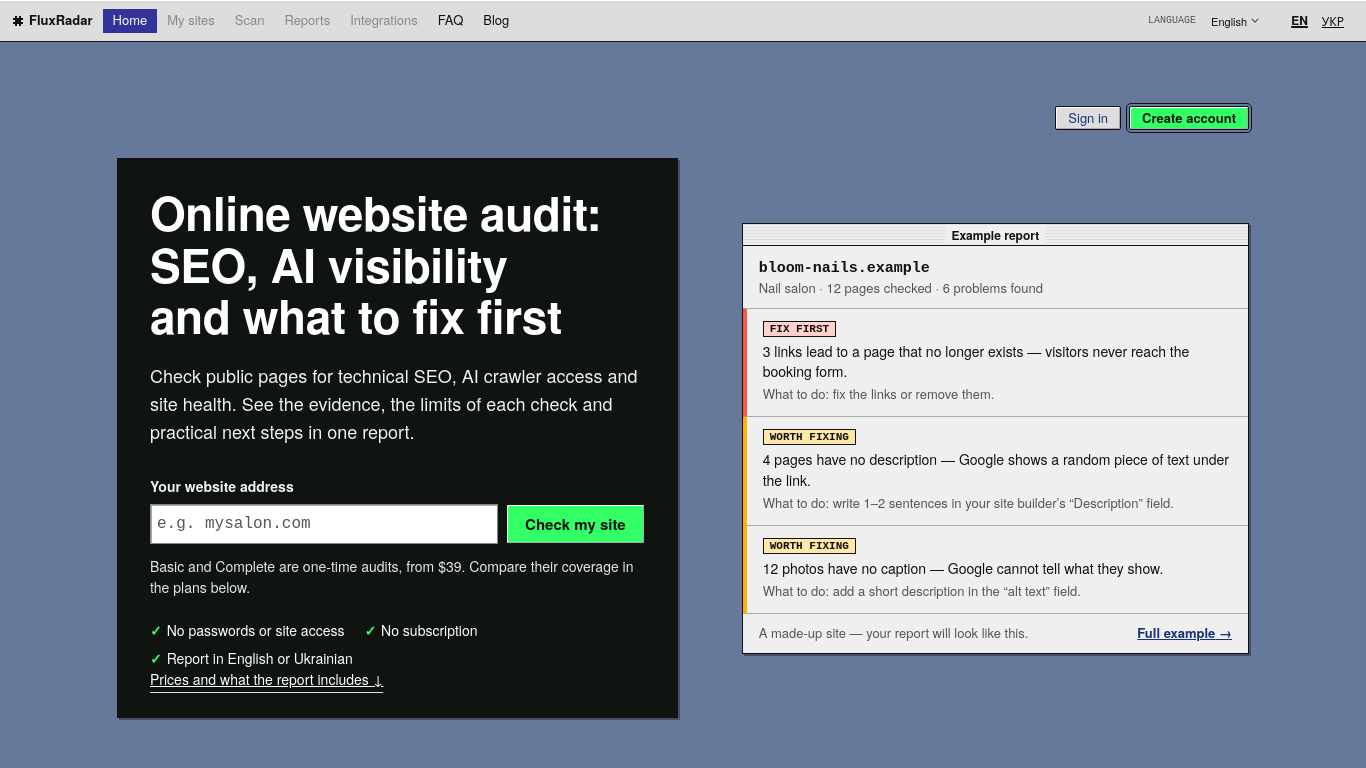
home hero › refuses an address that is not a public site, without starting
Type "not a site" into the field labelled "Your website address" at (324, 524), box top-left (150, 504), bottom-right (498, 544)
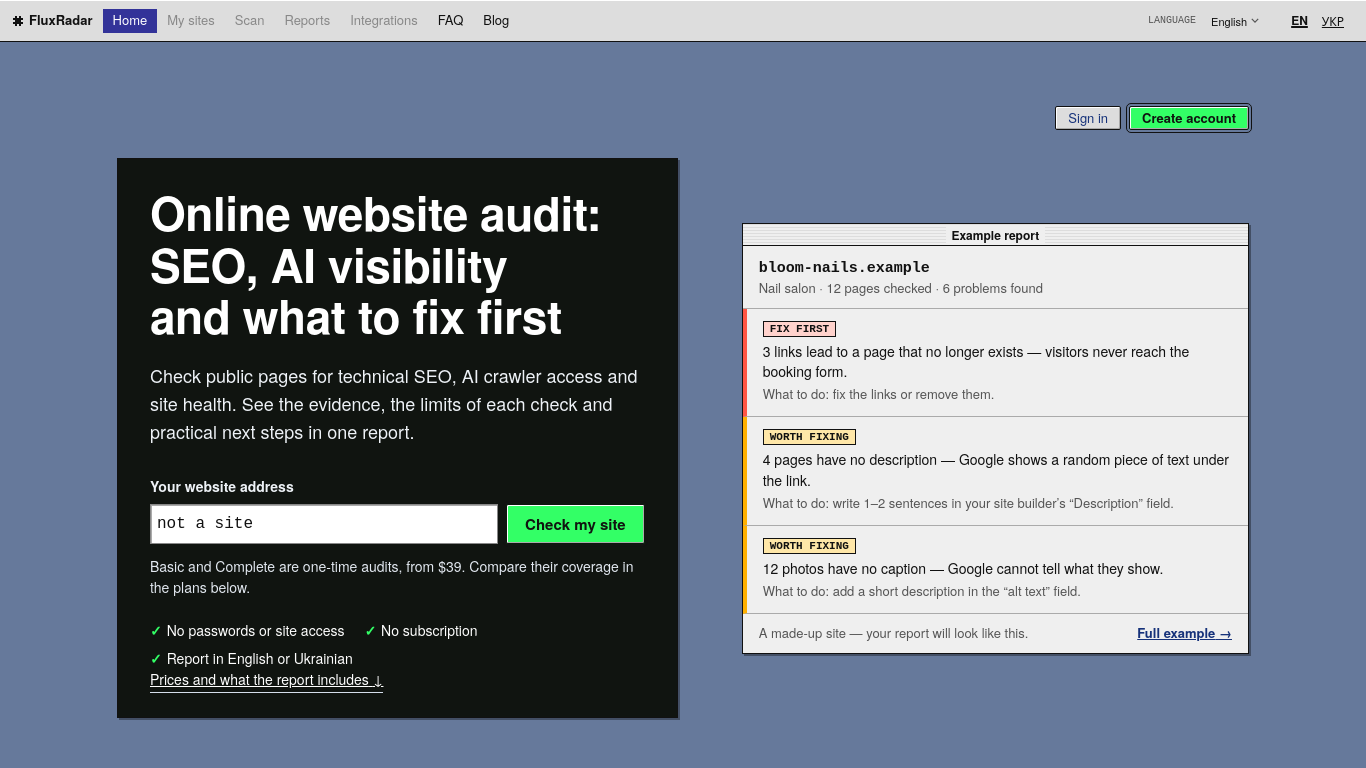
Click the button "Check my site" at (575, 524), box top-left (506, 504), bottom-right (645, 544)
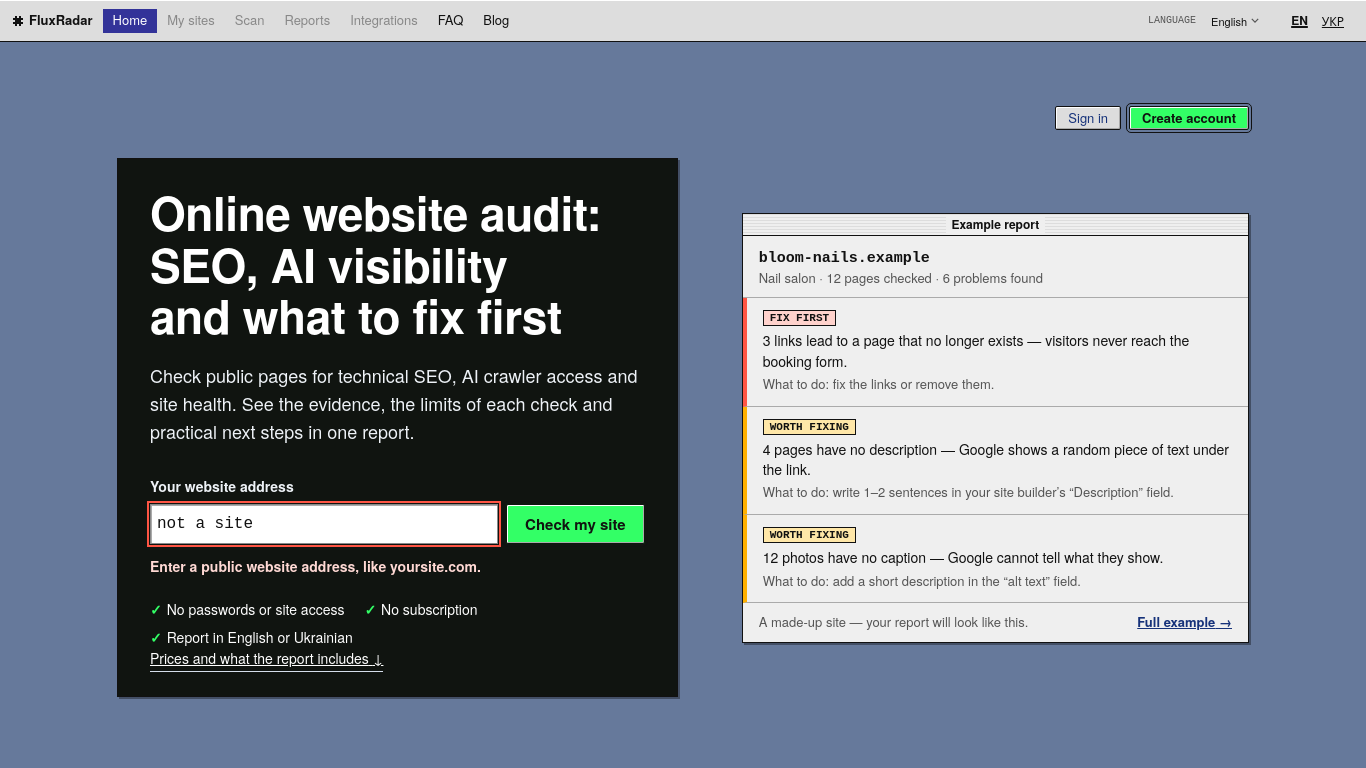
Check: the message shows "Enter a public website address", box top-left (150, 556), bottom-right (481, 576)
